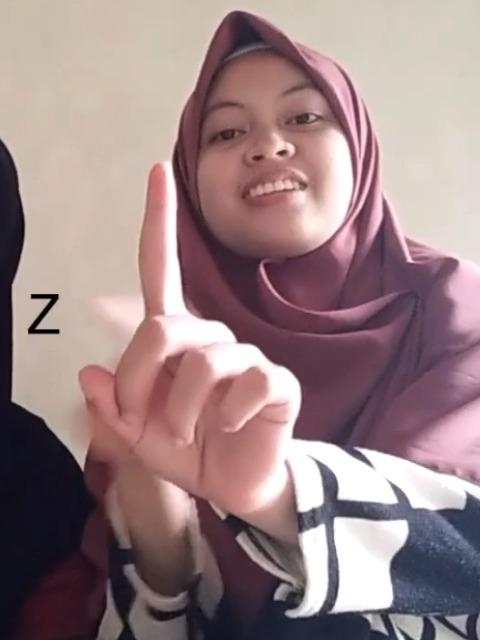Z: (72, 157, 306, 508)
